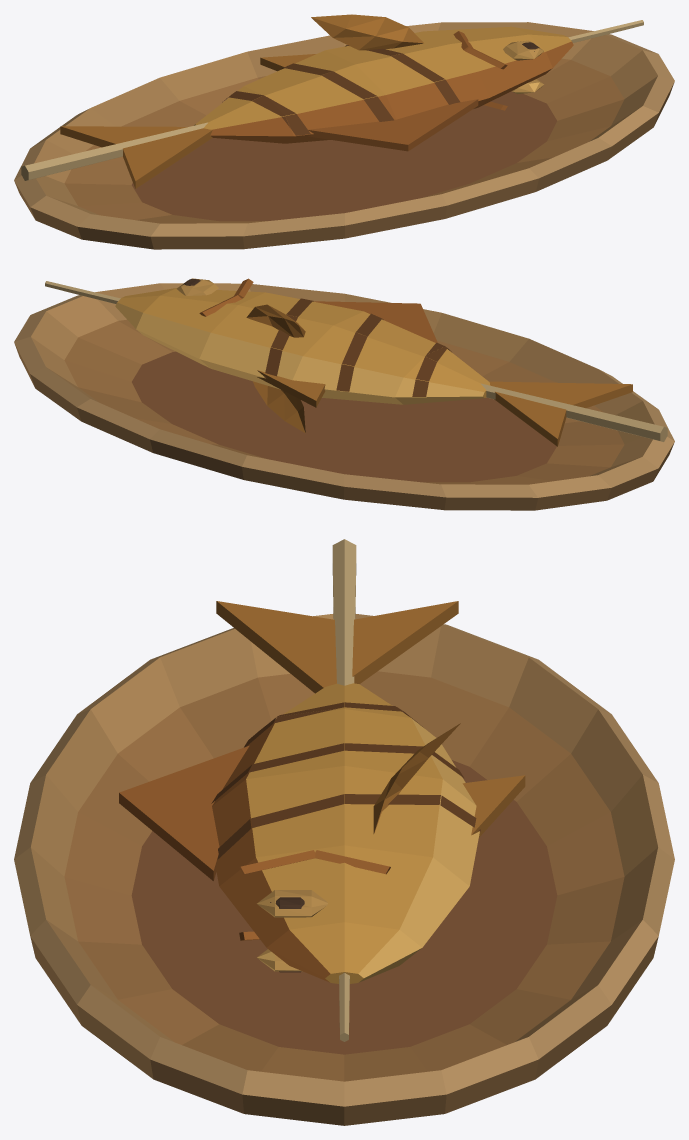
Rendered from fish_roast.glb.
3 renders of one model, top to bottom at view 1: azimuth 30°, elevation 25°; view 2: azimuth 150°, elevation 25°; view 3: azimuth 270°, elevation 25°, orthographic. The views are drawn at different scales.
Parts seen in each view (by area): view 1: 长木盘金黄焦痕串鱼; view 2: 长木盘金黄焦痕串鱼; view 3: 长木盘金黄焦痕串鱼.
Part boxes in pixels (x1,y1,x2,y2): 长木盘金黄焦痕串鱼: [14, 14, 674, 249]; 长木盘金黄焦痕串鱼: [14, 278, 674, 510]; 长木盘金黄焦痕串鱼: [14, 539, 674, 1125].
Size of the model in its own units: 0.6842 by 0.1406 by 0.3835.
